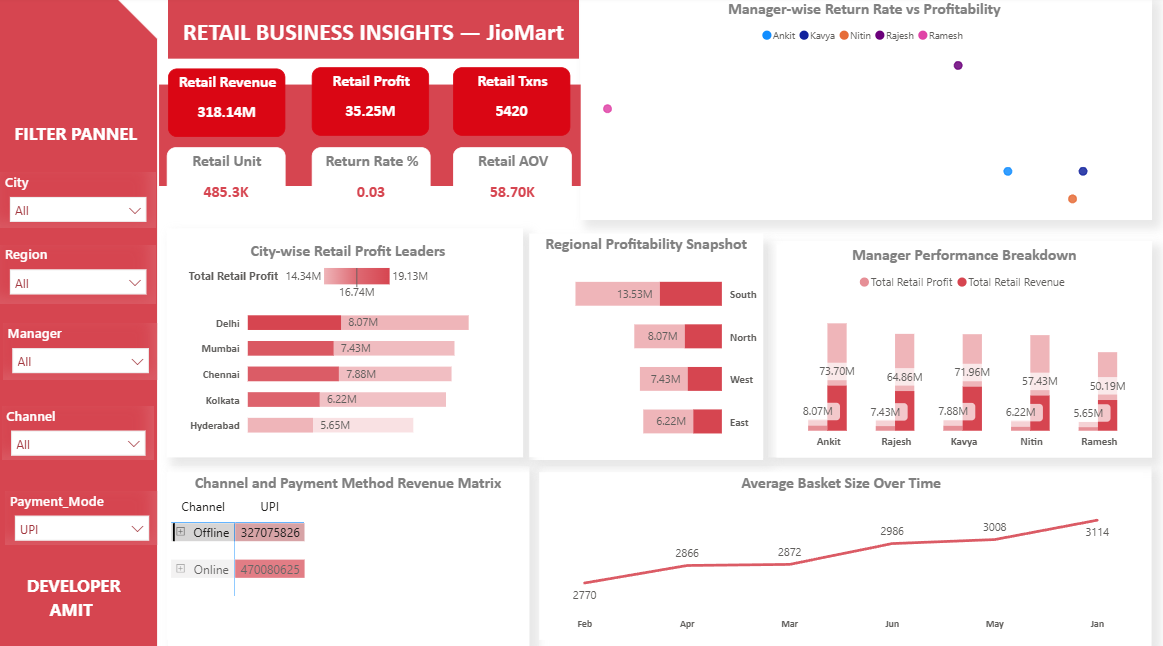

What the dashboard file says about the page in this screenshot:
{"tool":"powerbi","page":{"name":"RETAIL BUSINESS INSIGHTS - 2","canvas":[1280,720],"ordinal":2},"visuals":[{"type":"shape","box":[639.5,0,627.1,245.6],"z":0},{"type":"shape","box":[594.2,516,672.4,197.6],"z":1000},{"type":"shape","box":[186.6,516,396.6,197.6],"z":2000},{"type":"shape","box":[845.3,269,421.3,237.4],"z":3000},{"type":"shape","box":[583.2,264.8,256.6,244.3],"z":4000},{"type":"shape","box":[185.2,255.2,391.1,251.1],"z":5000},{"type":"shape","box":[177,97.4,462.4,111.1],"z":6000},{"type":"card","title":"Retail Revenue","fields":{"Values":["Main KPIs.Total Retail Revenue"]},"box":[186.6,79.6,129,75.5],"z":7000},{"type":"card","title":"Retail Profit","fields":{"Values":["Main KPIs.Total Retail Profit"]},"box":[344.4,78.2,129,75.5],"z":8000},{"type":"card","title":"Retail Txns","fields":{"Values":["RETAIL PERFORMANCE.Retail Txns"]},"box":[499.5,78.2,129,75.5],"z":9000},{"type":"card","title":"Retail Unit","fields":{"Values":["RETAIL PERFORMANCE.Retail Units"]},"box":[185.2,166,130.4,79.6],"z":10000},{"type":"card","title":"Return Rate %","fields":{"Values":["RETAIL PERFORMANCE.Retail Return Rate %"]},"box":[344.4,166,130.4,79.6],"z":11000},{"type":"clusteredBarChart","title":"City-wise Retail Profit Leaders","fields":{"Category":["Retail_Sales.City"],"Y":["Main KPIs.Total Retail Profit"]},"box":[204.5,269,359.5,227.8],"z":12000},{"type":"card","title":"Retail AOV","fields":{"Values":["RETAIL PERFORMANCE.Retail AOV (₹)"]},"box":[499.5,166,130.4,79.6],"z":13000},{"type":"areaChart","title":"Average Basket Size Over Time","fields":{"Y":["Retail_Sales.Basket_Size"],"Category":["Date_.Month"]},"box":[594.2,522.8,662.8,183.9],"z":14000},{"type":"shape","box":[0,2.7,175.6,712.2],"z":15000},{"type":"slicer","title":"City","fields":{"Values":["Fuel_Sales.Fuel_Type"]},"box":[2.7,193.5,170.2,61.7],"z":16000},{"type":"slicer","title":"Manager","fields":{"Values":["Retail_Sales.Manager"]},"box":[5.5,359.5,170.2,61.7],"z":17000},{"type":"slicer","title":"Region","fields":{"Values":["Master_Data.Region"]},"box":[2.7,273.1,170.2,64.5],"z":18000},{"type":"slicer","title":"Channel","fields":{"Values":["Retail_Sales.City"]},"box":[4.1,450.1,167.4,59],"z":19000},{"type":"textbox","box":[2.7,133.1,163.3,45.3],"z":20000},{"type":"textbox","box":[0,624.4,148.2,70],"z":21000},{"type":"slicer","title":"Payment_Mode","fields":{"Values":["Retail_Sales.Payment_Mode"]},"box":[8.2,543.4,167.4,59],"z":22000},{"type":"pivotTable","title":"Channel and Payment Method Revenue Matrix","fields":{"Rows":["Retail_Sales.Channel","Retail_Sales.Region"],"Columns":["Retail_Sales.Payment_Mode"],"Values":["RETAIL PERFORMANCE.Total Retail Gross Revenue"]},"box":[185.2,522.8,397.9,183.9],"z":23000},{"type":"lineClusteredColumnComboChart","title":"Manager Performance Breakdown","fields":{"Category":["Retail_Sales.Manager"],"Y":["Main KPIs.Total Retail Profit","Main KPIs.Total Retail Revenue"]},"box":[854.9,273.1,411.7,233.3],"z":24000},{"type":"scatterChart","title":"Manager-wise Return Rate vs Profitability","fields":{"X":["RETAIL PERFORMANCE.Retail Return Rate %"],"Y":["RETAIL PERFORMANCE.Retail Margin %"],"Series":["Retail_Sales.Manager"]},"box":[644.9,2.7,612,231.9],"z":25000},{"type":"textbox","box":[186.6,0,451.5,68.6],"z":26000},{"type":"clusteredBarChart","title":"Regional Profitability Snapshot","fields":{"Y":["Main KPIs.Total Retail Profit"],"Category":["Retail_Sales.Region"]},"box":[583.2,260.7,256.6,245.6],"z":28000}]}

Visuals, with their boxes in screenshot pixels (x1, y1, x2, y2), scaled from the page's 1280x720 canvas onto the 1163x646 screenshot:
shape: bbox=(581, 0, 1151, 220)
shape: bbox=(540, 463, 1151, 640)
shape: bbox=(170, 463, 530, 640)
shape: bbox=(768, 241, 1151, 454)
shape: bbox=(530, 238, 763, 457)
shape: bbox=(168, 229, 524, 454)
shape: bbox=(161, 87, 581, 187)
"Retail Revenue" card: bbox=(170, 71, 287, 139)
"Retail Profit" card: bbox=(313, 70, 430, 138)
"Retail Txns" card: bbox=(454, 70, 571, 138)
"Retail Unit" card: bbox=(168, 149, 287, 220)
"Return Rate %" card: bbox=(313, 149, 431, 220)
"City-wise Retail Profit Leaders" clusteredBarChart: bbox=(186, 241, 512, 446)
"Retail AOV" card: bbox=(454, 149, 572, 220)
"Average Basket Size Over Time" areaChart: bbox=(540, 469, 1142, 634)
shape: bbox=(0, 2, 160, 641)
"City" slicer: bbox=(2, 174, 157, 229)
"Manager" slicer: bbox=(5, 323, 160, 378)
"Region" slicer: bbox=(2, 245, 157, 303)
"Channel" slicer: bbox=(4, 404, 156, 457)
textbox: bbox=(2, 119, 151, 160)
textbox: bbox=(0, 560, 135, 623)
"Payment_Mode" slicer: bbox=(7, 488, 160, 540)
"Channel and Payment Method Revenue Matrix" pivotTable: bbox=(168, 469, 530, 634)
"Manager Performance Breakdown" lineClusteredColumnComboChart: bbox=(777, 245, 1151, 454)
"Manager-wise Return Rate vs Profitability" scatterChart: bbox=(586, 2, 1142, 210)
textbox: bbox=(170, 0, 580, 62)
"Regional Profitability Snapshot" clusteredBarChart: bbox=(530, 234, 763, 454)
